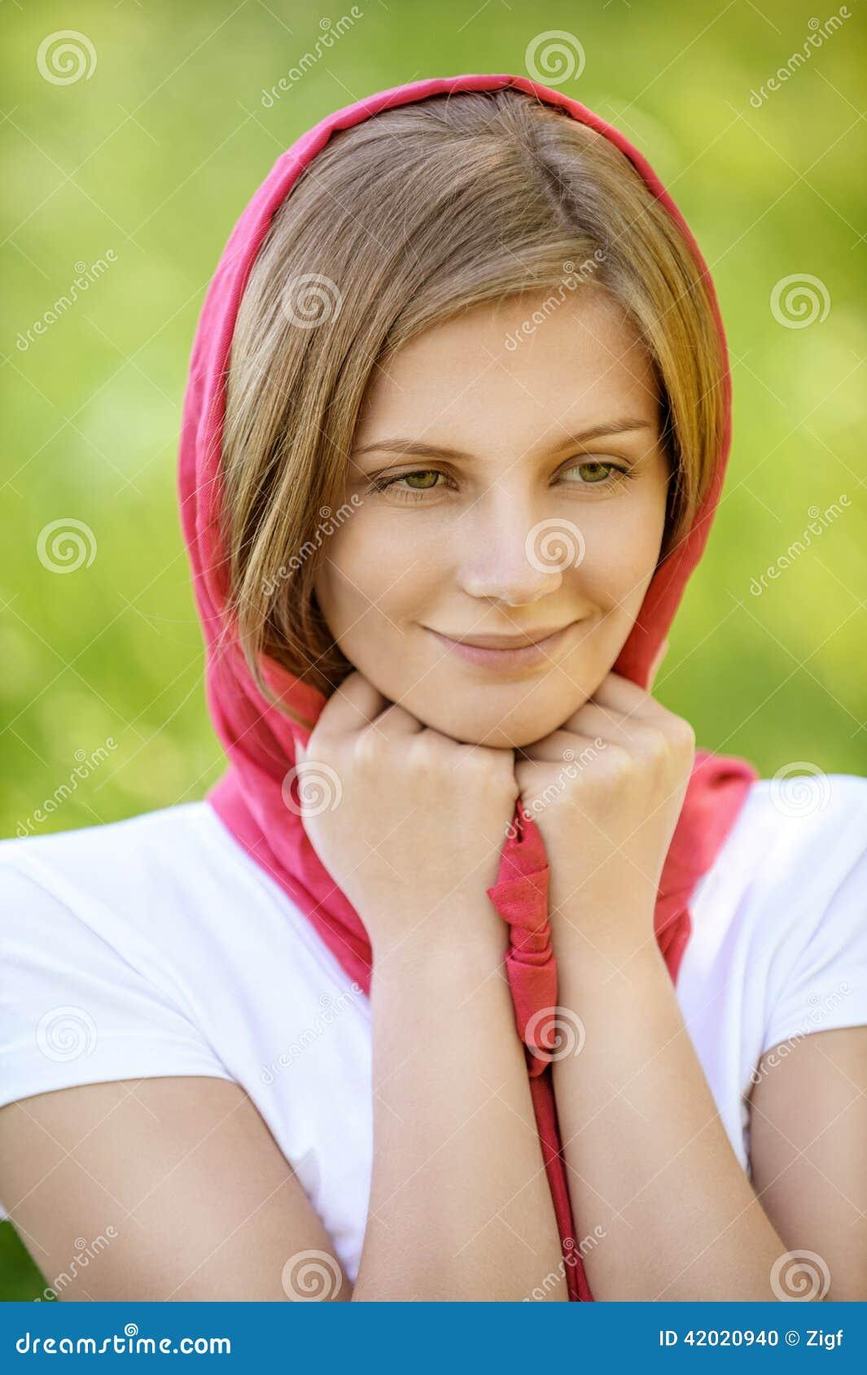person: (293, 179, 668, 749)
